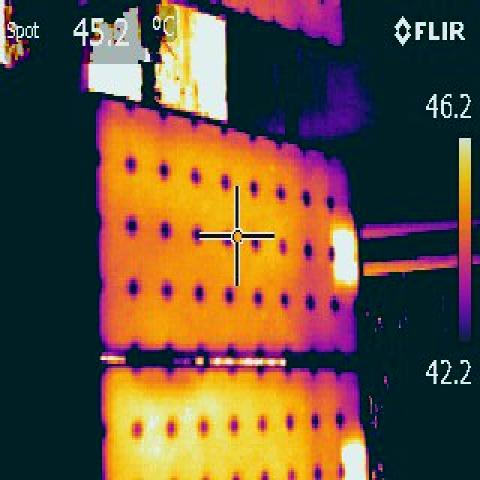fault: (330, 228, 358, 288), (340, 440, 366, 480)
